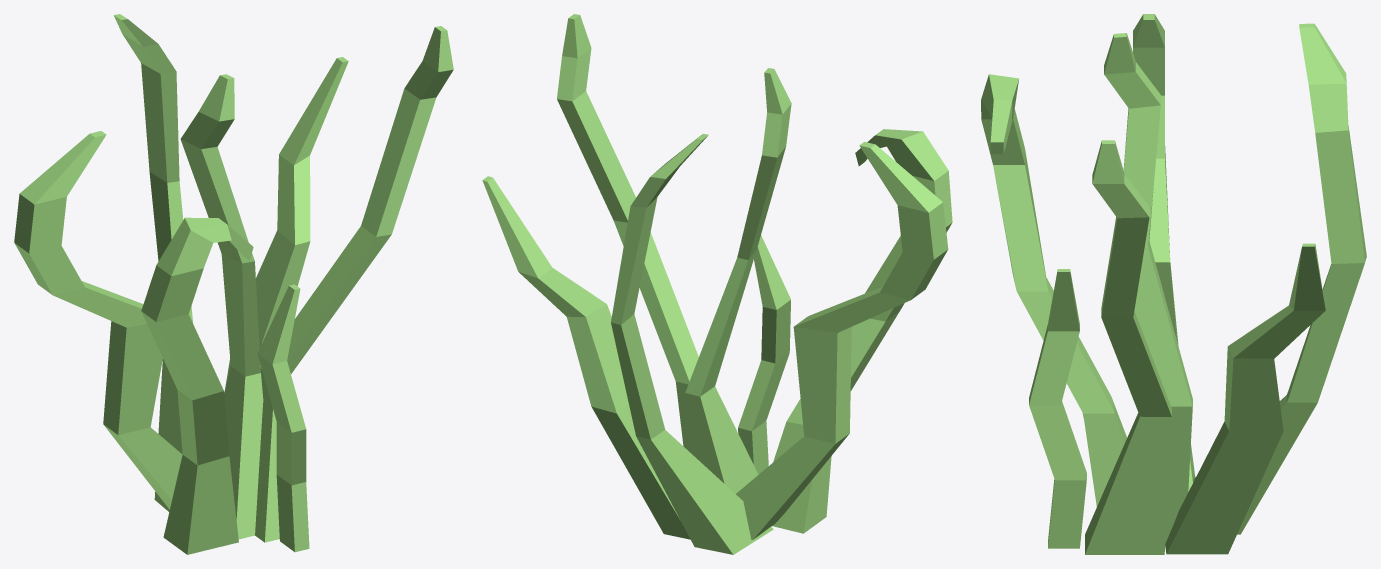
File: pasto.fbx
The picture shows the model from 3 angles, left to right: view 1: azimuth 30°, elevation 25°; view 2: azimuth 150°, elevation 25°; view 3: azimuth 270°, elevation 25°; orthographic projection. The views are drawn at different scales.
Visible parts, largest first — view 1: Cube.002, Cube.003, Cube.001, Cube.005, Cube.006, Cube.004, Cube; view 2: Cube.003, Cube.006, Cube.004, Cube.005, Cube.001, Cube.002, Cube; view 3: Cube.001, Cube.004, Cube.006, Cube.002, Cube.005, Cube, Cube.003.
Part boxes in pixels (<box>): Cube.002: <box>141,217,253,554</box>; Cube.003: <box>14,131,182,509</box>; Cube.001: <box>255,26,453,542</box>; Cube.005: <box>180,74,263,539</box>; Cube.006: <box>113,14,193,511</box>; Cube.004: <box>224,57,348,393</box>; Cube: <box>257,284,309,552</box>; Cube.003: <box>736,141,948,539</box>; Cube.006: <box>611,134,773,554</box>; Cube.004: <box>482,176,690,539</box>; Cube.005: <box>685,68,791,493</box>; Cube.001: <box>557,14,698,453</box>; Cube.002: <box>772,129,952,533</box>; Cube: <box>738,235,790,474</box>; Cube.001: <box>1085,140,1171,554</box>; Cube.004: <box>1165,243,1325,554</box>; Cube.006: <box>1193,23,1366,534</box>; Cube.002: <box>981,74,1126,506</box>; Cube.005: <box>1104,33,1192,543</box>; Cube: <box>1029,269,1086,548</box>; Cube.003: <box>1133,14,1195,491</box>.
Bounding box in the file's own units: 42.86 × 46.49 × 33.18.
